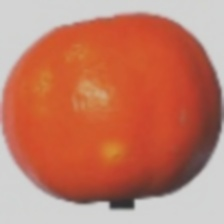tangerine: (44, 38, 198, 173)
